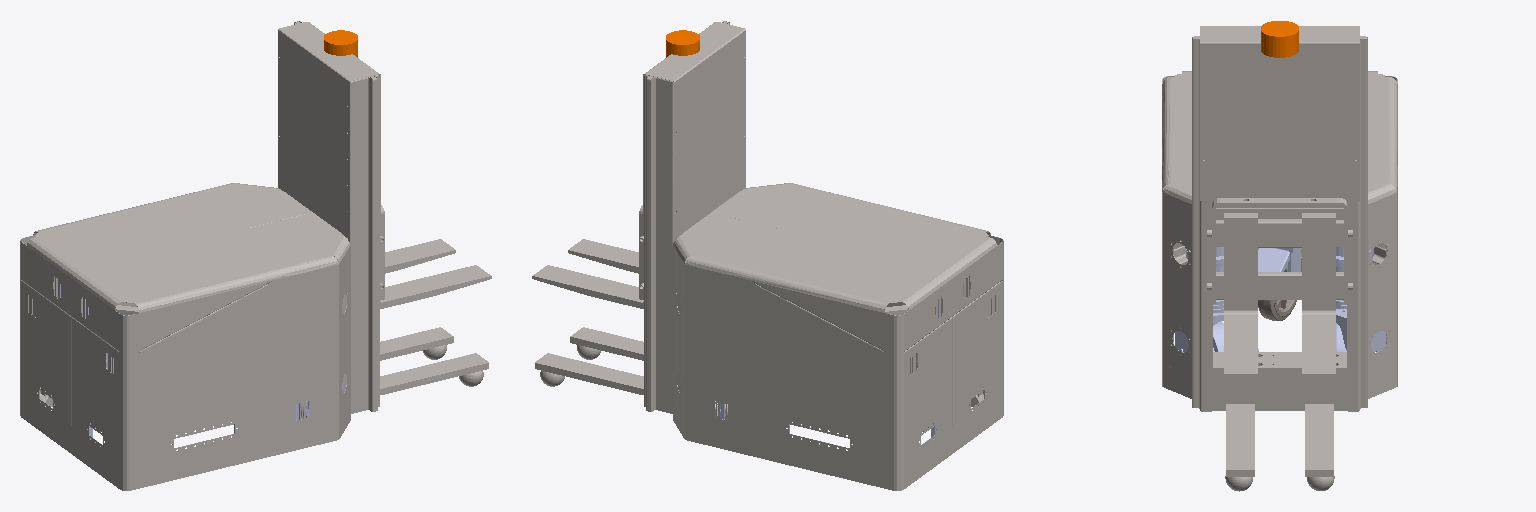
URDF robot description (WAFL2025):
<?xml version="1.0" encoding="utf-8"?>
<!-- This URDF was automatically created by SolidWorks to URDF Exporter! Originally created by [author] ([email redacted]) 
     Commit Version: 1.6.0-4-g7f85cfe  Build Version: 1.6.7995.38578
     For more information, please see http://wiki.ros.org/sw_urdf_exporter -->
<robot
  name="WAFL2025">
  
<!-- <link name="base_footprint"/> -->


  <link
    name="base_link">
    <inertial>
      <origin
        xyz="0.44764 -8.6961E-05 -0.19475"
        rpy="0 0 0" />
      <mass
        value="75.51" />
      <inertia
        ixx="1.7717"
        ixy="0.0070117"
        ixz="-0.21444"
        iyy="2.3738"
        iyz="0.11565"
        izz="1.7629" />
    </inertial>
    <visual>
      <origin
        xyz="0 0 0"
        rpy="0 0 0" />
      <geometry>
        <mesh
          filename="package://WAFL2025/meshes/base_link.STL" />
      </geometry>
      <material
        name="">
        <color
          rgba="0.78039 0.76078 0.74118 1" />
      </material>
    </visual>
    <collision>
      <origin
        xyz="0 0 0"
        rpy="0 0 0" />
      <geometry>
        <mesh
          filename="package://WAFL2025/meshes/base_link.STL" />
      </geometry>
    </collision>
  </link>
<!--<joint name="chassis_base_footprint" type="fixed">
    <origin xyz="0 0 0.125" rpy="0 0 0"/>  
    <parent link="base_footprint"/>
    <child link="base_link"/>
  </joint>-->
  


  <link
    name="left_web">
    <inertial>
      <origin
        xyz="-0.000209 -0.0002904 0.057128"
        rpy="0 0 0" />
      <mass
        value="1.4293" />
      <inertia
        ixx="0.0041861"
        ixy="-0.00043848"
        ixz="-2.1438E-05"
        iyy="0.0038924"
        iyz="-2.9788E-05"
        izz="0.0042523" />
    </inertial>
    <visual>
      <origin
        xyz="0 0 0"
        rpy="0 0 0" />
      <geometry>
        <mesh
          filename="package://WAFL2025/meshes/left_web.STL" />
      </geometry>
      <material
        name="">
        <color
          rgba="0.79216 0.81961 0.92941 1" />
      </material>
    </visual>
    <collision>
      <origin
        xyz="0 0 0"
        rpy="0 0 0" />
      <geometry>
        <mesh
          filename="package://WAFL2025/meshes/left_web.STL" />
      </geometry>
    </collision>
  </link>
  <joint
    name="leftweb"
    type="continuous">
    <origin
      xyz="0.37473 0.16927 -0.351"
      rpy="0 0 0" />
    <parent
      link="base_link" />
    <child
      link="left_web" />
    <axis
      xyz="0 0 -1" />
    <limit
      effort="10"
      velocity="10" />
    <dynamics
      damping="0.1"
      friction="0.1" />
  </joint>
  <link
    name="left_wheel">
    <inertial>
      <origin
        xyz="6.1764E-05 -1.0018E-05 -9.5402E-03"
        rpy="0 0 0" />
      <mass
        value="1.4135" />
      <inertia
        ixx="0.0037641"
        ixy="-2.5259E-07"
        ixz="-2.7508E-08"
        iyy="0.0037626"
        iyz="4.464E-09"
        izz="0.0064566" />
    </inertial>
    <visual>
      <origin
        xyz="0 0 0"
        rpy="0 0 0" />
      <geometry>
        <mesh
          filename="package://WAFL2025/meshes/left_wheel.STL" />
      </geometry>
      <material
        name="">
        <color
          rgba="0.79216 0.81961 0.92941 1" />
      </material>
    </visual>
    <collision>
      <origin
        xyz="0 0 0"
        rpy="0 0 0" />
      <geometry>
        <mesh
          filename="package://WAFL2025/meshes/left_wheel.STL" />
      </geometry>
    </collision>
  </link>
  <joint
    name="leftwheel"
    type="continuous">
    <origin
      xyz="0 0 -0.158"
      rpy="-1.5708 0 -0.0" />
    <parent
      link="left_web" />
    <child
      link="left_wheel" />
    <axis
      xyz="0 0 -1" />
    <limit
      effort="50"
      velocity="50" />
    <dynamics
      damping="0.1"
      friction="0.1" />
  </joint>
  <link
    name="right_web">
    <inertial>
      <origin
        xyz="0.00013451 -0.00030111 0.05303"
        rpy="0 0 0" />
      <mass
        value="1.5507" />
      <inertia
        ixx="0.0041861"
        ixy="-0.00043848"
        ixz="-2.1438E-05"
        iyy="0.0038924"
        iyz="-2.9788E-05"
        izz="0.0042523" />
    </inertial>
    <visual>
      <origin
        xyz="0 0 0"
        rpy="0 0 0" />
      <geometry>
        <mesh
          filename="package://WAFL2025/meshes/right_web.STL" />
      </geometry>
      <material
        name="">
        <color
          rgba="0.79216 0.81961 0.92941 1" />
      </material>
    </visual>
    <collision>
      <origin
        xyz="0 0 0"
        rpy="0 0 0" />
      <geometry>
        <mesh
          filename="package://WAFL2025/meshes/right_web.STL" />
      </geometry>
    </collision>
  </link>
  <joint
    name="rightweb"
    type="continuous">
    <origin
      xyz="0.37493 -0.17027 -0.351"
      rpy="0 0 0" />
    <parent
      link="base_link" />
    <child
      link="right_web" />
    <axis
      xyz="0 0 -1" />
    <limit
      effort="10"
      velocity="10" />
    <dynamics
      damping="0.1"
      friction="0.1" />
  </joint>
  <link
    name="right_wheel">
    <inertial>
      <origin
        xyz="6.1764E-05 -1.0018E-05 -9.5402E-03"
        rpy="0 0 0" />
      <mass
        value="1.4135" />
      <inertia
        ixx="0.0037641"
        ixy="-2.5259E-07"
        ixz="-2.7508E-08"
        iyy="0.0037626"
        iyz="4.464E-09"
        izz="0.0064566" />
    </inertial>
    <visual>
      <origin
        xyz="0 0 0"
        rpy="0 0 0" />
      <geometry>
        <mesh
          filename="package://WAFL2025/meshes/right_wheel.STL" />
      </geometry>
      <material
        name="">
        <color
          rgba="0.79216 0.81961 0.92941 1" />
      </material>
    </visual>
    <collision>
      <origin
        xyz="0 0 0"
        rpy="0 0 0" />
      <geometry>
        <mesh
          filename="package://WAFL2025/meshes/right_wheel.STL" />
      </geometry>
    </collision>
  </link>
  <joint
    name="rightwheel"
    type="continuous">
    <origin
      xyz="0 0 -0.158"
      rpy="-1.5708 0 0.4201" />
    <parent
      link="right_web" />
    <child
      link="right_wheel" />
    <axis
      xyz="0 0 -1" />
    <limit
      effort="50"
      velocity="50" />
    <dynamics
      damping="0.1"
      friction="0.1" />
  </joint>
  <link
    name="castor">
    <inertial>
      <origin
        xyz="-0.014681 8.0115E-06 -0.033862"
        rpy="0 0 0" />
      <mass
        value="1.5287" />
      <inertia
        ixx="0.0041861"
        ixy="-0.00043848"
        ixz="-2.1438E-05"
        iyy="0.0038924"
        iyz="-2.9788E-05"
        izz="0.0042523" />
    </inertial>
    <visual>
      <origin
        xyz="0 0 0"
        rpy="0 0 0" />
      <geometry>
        <mesh
          filename="package://WAFL2025/meshes/castor.STL" />
      </geometry>
      <material
        name="">
        <color
          rgba="0.79216 0.81961 0.93333 1" />
      </material>
    </visual>
    <collision>
      <origin
        xyz="0 0 0"
        rpy="0 0 0" />
      <geometry>
        <mesh
          filename="package://WAFL2025/meshes/castor.STL" />
      </geometry>
    </collision>
  </link>
  <joint
    name="castorjoint"
    type="continuous">
    <origin
      xyz="-0.087559 0 -0.374"
      rpy="0 0 0" />
    <parent
      link="base_link" />
    <child
      link="castor" />
    <axis
      xyz="0 0 1" />
    <limit
      effort="10"
      velocity="10" />
    <dynamics
      damping="0.1"
      friction="0.1" />
  </joint>
  <link
    name="castor_wheel">
    <inertial>
      <origin
        xyz="5.8206E-05 -1.471E-05 -0.038908"
        rpy="0 0 0" />
      <mass
        value="1.5287" />
      <inertia
        ixx="0.0037641"
        ixy="-2.5259E-07"
        ixz="-2.7508E-08"
        iyy="0.0037626"
        iyz="4.464E-09"
        izz="0.0064566" />
    </inertial>
    <visual>
      <origin
        xyz="0 0 0"
        rpy="0 0 0" />
      <geometry>
        <mesh
          filename="package://WAFL2025/meshes/castor_wheel.STL" />
      </geometry>
      <material
        name="">
        <color
          rgba="0.65098 0.61961 0.58824 1" />
      </material>
    </visual>
    <collision>
      <origin
        xyz="0 0 0"
        rpy="0 0 0" />
      <geometry>
        <mesh
          filename="package://WAFL2025/meshes/castor_wheel.STL" />
      </geometry>
    </collision>
  </link>
  <joint
    name="castorwheel"
    type="continuous">
    <origin
      xyz="0.0087891 0.018594 -0.135"
      rpy="-1.5708 0 -0.44156" />
    <parent
      link="castor" />
    <child
      link="castor_wheel" />
    <axis
      xyz="0 0 1" />
    <limit
      effort="10"
      velocity="10" />
    <dynamics
      damping="0.1"
      friction="0.1" />
  </joint> 

  <!-- RPLiDAR A2M8 -->
<link name="rplidar_link">
  <inertial>
    <mass value="0.5"/>
    <inertia ixx="0.001" ixy="0" ixz="0"
             iyy="0.001" iyz="0"
             izz="0.001"/>
  </inertial>
  <visual>
    <geometry>
      <cylinder radius="0.05" length="0.06"/>
      <!-- Optional: Add mesh if you have one -->
      <mesh filename="package://WAFL2025/meshes/hokuyo.dae" scale="1 1 1"/>
    </geometry>
    <material name="Orange">
      <color rgba="1 0.5 0 1"/>
    </material>
  </visual>
  <collision>
    <geometry>
      <cylinder radius="0.05" length="0.06"/>
    </geometry>
  </collision>
</link>

<joint name="rplidar_joint" type="fixed">
  <parent link="base_link"/>
  <child link="rplidar_link"/>
  <origin xyz="0.59 0 0.5" rpy="0 0 0"/>  <!-- Adjust position as needed -->
</joint>

 <!-- RPLiDAR A2M8 Gazebo Plugin -->
<gazebo reference="rplidar_link">
  <sensor type="ray" name="rplidar_sensor">
    <pose>0 0 0 0 0 0</pose>
    <visualize>true</visualize>
    <update_rate>10</update_rate>
    <ray>
      <scan>
        <horizontal>
          <samples>800</samples>  <!-- A2M8 has 800 samples per scan -->
          <resolution>1</resolution>
          <min_angle>-3.14159</min_angle>  <!-- -180° -->
          <max_angle>3.14159</max_angle>   <!-- +180° -->
        </horizontal>
      </scan>
      <range>
        <min>0.15</min>  <!-- 15cm min range -->
        <max>8.0</max>    <!-- 8m max range -->
        <resolution>0.01</resolution>
      </range>
      <noise>
        <type>gaussian</type>
        <mean>0.0</mean>
        <stddev>0.01</stddev>
      </noise>
    </ray>
    <plugin name="gazebo_ros_rplidar_controller" filename="libgazebo_ros_laser.so">
      <topicName>/scan</topicName>
      <frameName>rplidar_link</frameName>
    </plugin>
  </sensor>
</gazebo>
  
  <!-- Kinect-->
  
  <link name="kinect_link">
   <visual>
    <geometry>
      <mesh filename="package://WAFL2025/meshes/kinect.dae" scale="1 1 1"/>
    </geometry>
    <material name="Green">
      <color rgba="0 1 0 1"/>  <!-- Makes it blue -->
    </material>
   </visual>

   <collision>
    <geometry>
      <box size="0.073 0.276 0.072"/>
    </geometry>
   </collision>

   <inertial>
    <mass value="0.5"/>  <!-- Increase mass if Kinect is not stable -->
    <origin xyz="0 0 0" rpy="0 0 0"/>
    <inertia ixx="0.005" iyy="0.005" izz="0.005" ixy="0" ixz="0" iyz="0"/>
   </inertial>
  </link>


  <joint name="kinect_joint" type="fixed">
    <parent link="base_link"/>
    <child link="kinect_link"/>
    <origin xyz="0.65 0 0.42" rpy="0 0 0"/>
  </joint>

<!-- Kinect Plugin -->
<gazebo reference="kinect_link">
  <sensor type="depth" name="kinect_sensor">
    <update_rate>20</update_rate>
    <camera>
      <horizontal_fov>1.047198</horizontal_fov>
      <image>
        <width>640</width>
        <height>480</height>
        <format>R8G8B8</format>
      </image>
      <clip>
        <near>0.05</near>
        <far>3</far>
      </clip>
    </camera>
    <plugin name="camera_plugin" filename="libgazebo_ros_openni_kinect.so">
      <cameraName>camera_ir</cameraName>
      <imageTopicName>/camera/color/image_raw</imageTopicName>
      <cameraInfoTopicName>/camera/color/camera_info</cameraInfoTopicName>
      <depthImageTopicName>/camera/depth/image_raw</depthImageTopicName>
      <depthImageCameraInfoTopicName>/camera/depth/camera_info</depthImageCameraInfoTopicName>
      <pointCloudTopicName>/camera/depth/points</pointCloudTopicName>
      <frameName>kinect_link</frameName>
      <pointCloudCutoff>0.5</pointCloudCutoff>
      <pointCloudCutoffMax>3.0</pointCloudCutoffMax>
    </plugin>
  </sensor>
</gazebo>
  


<link name="imu_link">
  <inertial>
    <mass value="0.01" />
    <origin xyz="0 0 0" />
    <inertia ixx="0.0001" ixy="0.0" ixz="0.0" iyy="0.0001" iyz="0.0" izz="0.0001" />
  </inertial>
</link>

<joint name="imu_joint" type="fixed">
  <parent link="base_link" />  <!-- Attach IMU to the base link -->
  <child link="imu_link" />
  <origin xyz="0 0 0.1" rpy="0 0 0" />  <!-- Adjust position as needed -->
</joint>

<gazebo reference="imu_link">
    <gravity>true</gravity>
    <sensor name="imu_sensor" type="imu">
      <always_on>true</always_on>
      <update_rate>100</update_rate>
      <visualize>true</visualize>
      <topic>/imu/data</topic>
      <plugin filename="libgazebo_ros_imu_sensor.so" name="imu_plugin">
        <topicName>imu</topicName>
        <bodyName>imu_link</bodyName>
        <updateRateHZ>10.0</updateRateHZ>
        <gaussianNoise>0.0</gaussianNoise>
        <xyzOffset>0 0 0</xyzOffset>
        <rpyOffset>0 0 0</rpyOffset>
        <frameName>imu_link</frameName>
        <initialOrientationAsReference>false</initialOrientationAsReference>
      </plugin>
      <pose>0 0 0 0 0 0</pose>
    </sensor>
  </gazebo>




<gazebo>
    <plugin name="gazebo_ros_control" filename="libgazebo_ros_control.so"/>
</gazebo>


<transmission name="leftweb_transmission" >
 <type>transmission_interface/SimpleTransmission</type>
    <actuator name="leftweb_motor">
      <mechanicalReduction>1</mechanicalReduction>
    </actuator>
    <joint name="leftweb">
      <hardwareInterface>hardware_interface/PositionJointInterface</hardwareInterface>
    </joint>
</transmission>

<transmission name="leftwheel_transmission" >
    <type>transmission_interface/SimpleTransmission</type>
    <actuator name="leftwheel_motor">
      <mechanicalReduction>1</mechanicalReduction>
    </actuator>
    <joint name="leftwheel">
      <hardwareInterface>hardware_interface/VelocityJointInterface</hardwareInterface>
    </joint>
</transmission>

<transmission name="rightweb_transmission">
   <type>transmission_interface/SimpleTransmission</type>
    <actuator name="rightweb_motor">
      <mechanicalReduction>1</mechanicalReduction>	
    </actuator>
    <joint name="rightweb">
      <hardwareInterface>hardware_interface/PositionJointInterface</hardwareInterface>
    </joint>
</transmission>

<transmission name="rightwheel_transmission" >
    <type>transmission_interface/SimpleTransmission</type>
    <actuator name="rightwheel_motor">
      <mechanicalReduction>1</mechanicalReduction>
    </actuator>
    <joint name="rightwheel">
      <hardwareInterface>hardware_interface/VelocityJointInterface</hardwareInterface>
    </joint>
</transmission>

<transmission name="castorjoint_transmission" >
   <type>transmission_interface/SimpleTransmission</type>
    <actuator name="castorjoint_motor">
      <mechanicalReduction>1</mechanicalReduction>
    </actuator>
    <joint name="castorjoint">
      <hardwareInterface>hardware_interface/PositionJointInterface</hardwareInterface>
    </joint>
</transmission>

<transmission name="castorwheel_transmission" >
   <type>transmission_interface/SimpleTransmission</type>
    <actuator name="castorwheel_motor">
      <mechanicalReduction>1</mechanicalReduction>
    </actuator>
    <joint name="castorwheel">
      <hardwareInterface>hardware_interface/VelocityJointInterface</hardwareInterface>
    </joint>
</transmission>


<gazebo reference="base_link">
    <disableCollisions>true</disableCollisions>
  </gazebo>
  
  
<gazebo>
  <plugin name="differential_drive_controller" filename="libgazebo_ros_diff_drive.so">

    <!-- Plugin update rate in Hz -->
    <updateRate>50</updateRate>

    <!-- Name of left joint, defaults to `left_joint` -->
    <leftJoint>leftwheel</leftJoint>

    <!-- Name of right joint, defaults to `right_joint` -->
    <rightJoint>rightwheel</rightJoint>

    <!-- The distance from the center of one wheel to the other, in meters, defaults to 0.34 m -->
    <wheelSeparation>0.5</wheelSeparation>

    <!-- Diameter of the wheels, in meters-->
    <wheelDiameter>0.1</wheelDiameter>

    <!-- Wheel acceleration, in rad/s^2, defaults to 0.0 rad/s^2 -->
    <wheelAcceleration>1.0</wheelAcceleration>

    <!-- Maximum torque which the wheels can produce, in Nm, defaults to 5 Nm -->
    <wheelTorque>20</wheelTorque>

    <!-- Topic to receive geometry_msgs/Twist message commands, defaults to `cmd_vel` -->
    <commandTopic>cmd_vel</commandTopic>

    <!-- Topic to publish nav_msgs/Odometry messages, defaults to `odom` -->
    <odometryTopic>odom</odometryTopic>

    <!-- Odometry frame, defaults to `odom` -->
    <odometryFrame>odom</odometryFrame>

    <!-- Robot frame to calculate odometry from, defaults to `base_footprint` -->
    <robotBaseFrame>base_link</robotBaseFrame>

    <!-- Odometry source, 0 for ENCODER, 1 for WORLD, defaults to WORLD -->
    <odometrySource>1</odometrySource>


    <!-- Set to true to publish transforms for the odometry, defaults to true -->
    <publishOdom>true</publishOdom>

    <!-- Set to true to publish transforms for the wheel links, defaults to false -->
    <publishWheelTF>false</publishWheelTF>

    <!-- Set to true to publish sensor_msgs/JointState on /joint_states for the wheel joints, defaults to false -->
    <publishWheelJointState>false</publishWheelJointState>

    <!-- Set to true to swap right and left wheels, defaults to true -->
    <legacyMode>true</legacyMode>
  </plugin>
</gazebo>


</robot>

--- Facts derived from the render (not from the file) ---
The picture shows the robot from 3 angles, left to right: view 1: azimuth 30°, elevation 25°; view 2: azimuth 150°, elevation 25°; view 3: azimuth 270°, elevation 25°; orthographic projection.
Robot: WAFL2025 — 10 links, 9 joints (6 continuous, 3 fixed); root link base_link; default pose: every joint at zero.
Visible links, largest first — view 1: base_link, rplidar_link; view 2: base_link, rplidar_link; view 3: base_link, rplidar_link, castor, left_web, right_web, castor_wheel.
Boxes of the visible links, x1,y1,x2,y2 form: base_link: (20,21,491,490); rplidar_link: (324,30,357,57); base_link: (532,21,1003,490); rplidar_link: (666,30,699,57); base_link: (1162,26,1397,491); rplidar_link: (1261,21,1298,57); castor: (1258,248,1301,271); left_web: (1336,247,1385,355); right_web: (1175,247,1223,355); castor_wheel: (1258,258,1301,320).
Size in the robot's own frame: 1.31 by 0.607 by 1.14 metres.
Meshes: 8 distinct files referenced, 7 mesh visuals loaded (7 binary STL); not drawn: 1 (reference not matched to a file when rendering).
